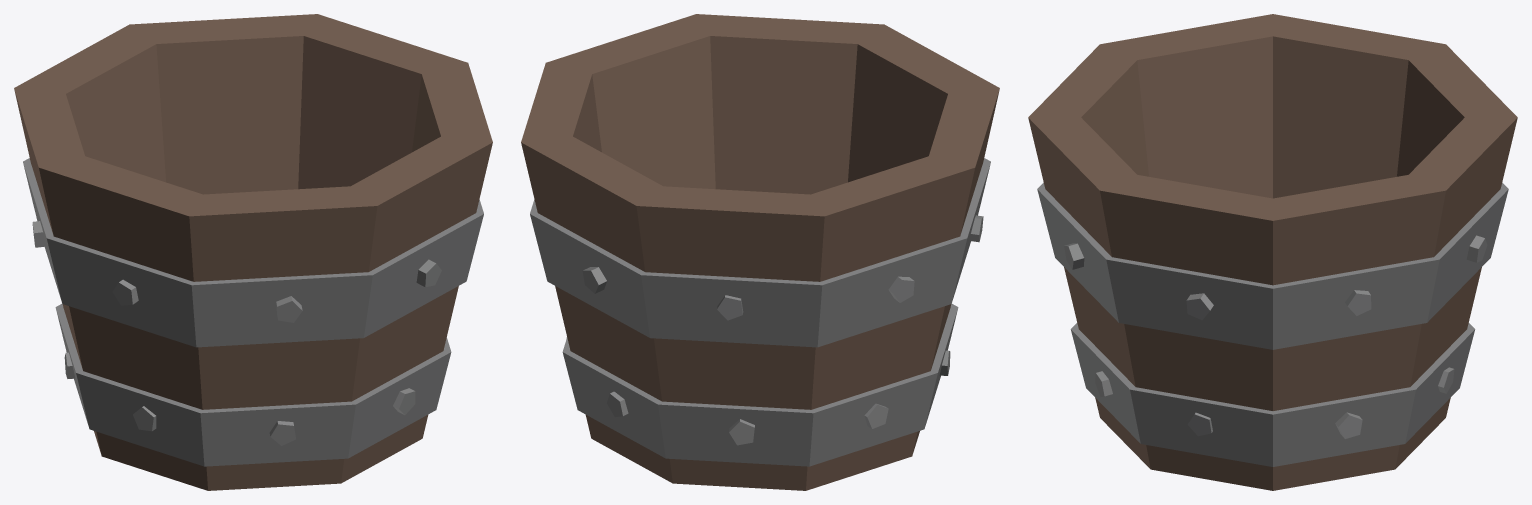
Rendered from Bucket_Empty_Greybox.fbx.
3 renders of one model, left to right at view 1: azimuth 30°, elevation 25°; view 2: azimuth 150°, elevation 25°; view 3: azimuth 270°, elevation 25°, orthographic.
Parts seen in each view (by area): view 1: Bucket_Empty; view 2: Bucket_Empty; view 3: Bucket_Empty.
Part boxes in pixels (x1=…): Bucket_Empty: x1=14, y1=14, x2=492, y2=490; Bucket_Empty: x1=521, y1=14, x2=999, y2=490; Bucket_Empty: x1=1028, y1=14, x2=1517, y2=490.
Size of the model in its own units: 0.9898 by 0.6701 by 0.9898.
